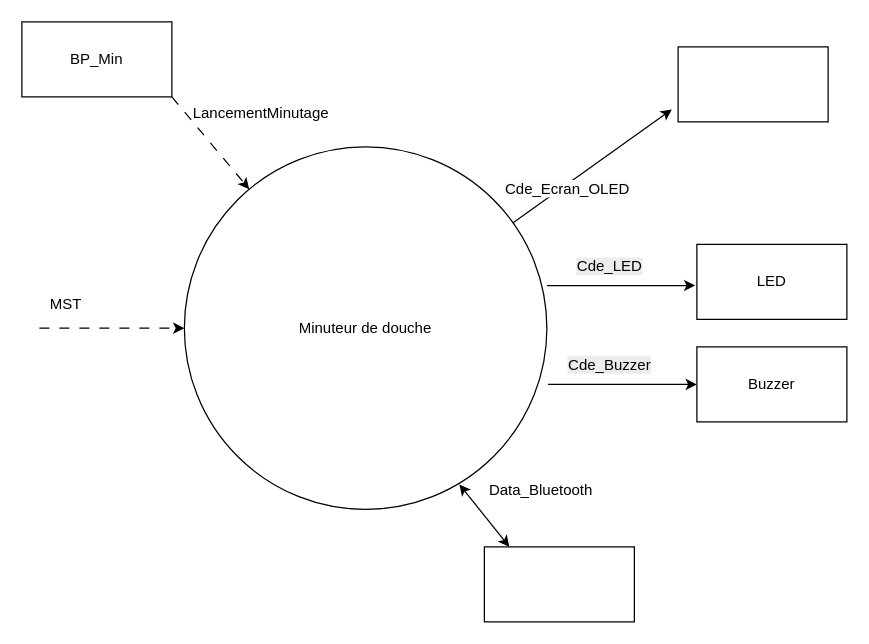
The diagram is 869 pixels wide and 644 high, and some of its shapes have lost their labels. Here are the shapes that lost their labels. From the top down, the centre of each, then its label:
point (752, 84): Ecran OLED
point (558, 584): Terminal Bluetooth
